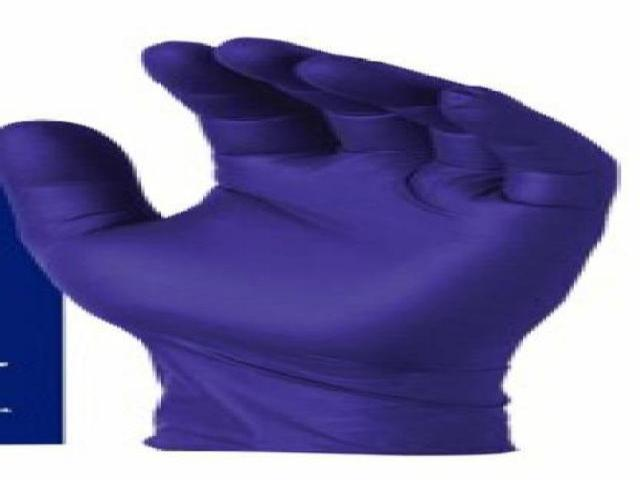Hand-in-Glove: (1, 29, 630, 470)
